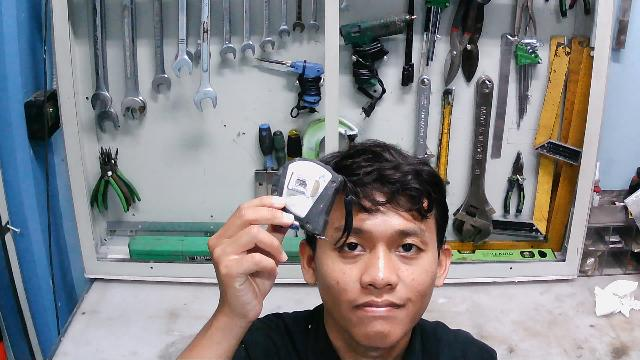meteran: (272, 154, 354, 254)
